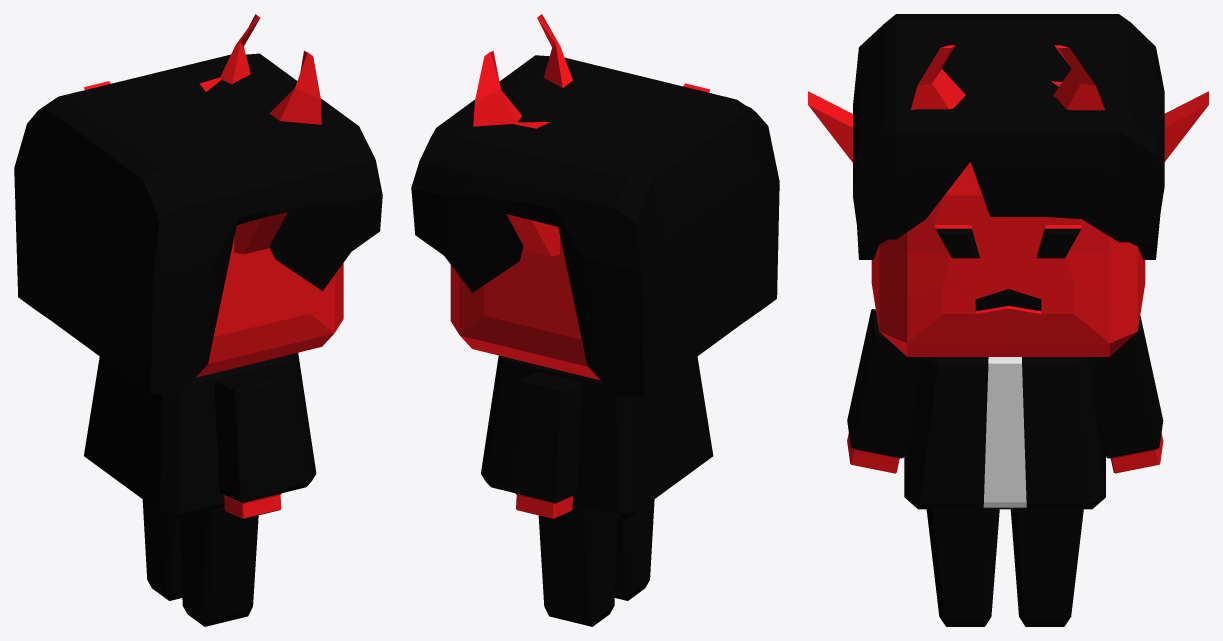
The model's file is DevilModel_2.fbx.
3 views of the same model, side by side, from view 1: azimuth 30°, elevation 25°; view 2: azimuth 150°, elevation 25°; view 3: azimuth 270°, elevation 25° (orthographic). The views are drawn at different scales.
Parts seen in each view (by area): view 1: Cube.002, Torso, Head, LegLeft, Cube.001; view 2: Cube.002, Torso, Head, LegLeft, Cube.001; view 3: Cube.002, Head, Torso, Cube.001, LegLeft.
Part boxes in pixels (x1,y1,x2,y2): Cube.002: (14, 53, 382, 395); Torso: (84, 353, 316, 519); Head: (84, 14, 343, 377); LegLeft: (142, 499, 258, 626); Cube.001: (214, 371, 284, 518); Cube.002: (411, 55, 779, 396); Torso: (481, 355, 713, 519); Head: (450, 14, 710, 380); LegLeft: (538, 499, 654, 626); Cube.001: (512, 371, 582, 518); Cube.002: (853, 14, 1164, 259); Head: (808, 45, 1208, 356); Torso: (904, 357, 1105, 509); Cube.001: (847, 309, 1163, 473); LegLeft: (926, 509, 1083, 626).
Size of the model in its own units: 202 by 456 by 270.
